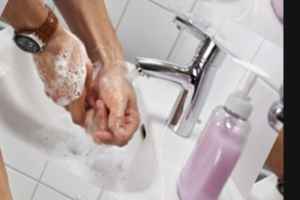washing hand: (0, 0, 230, 198)
